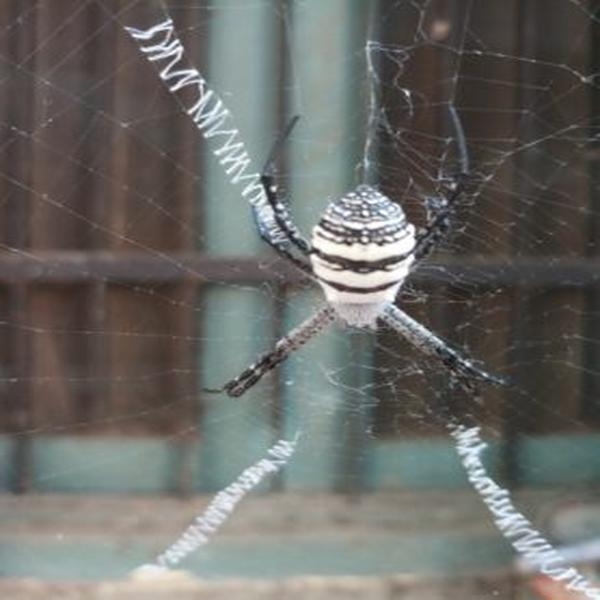St Andrew's Cross Spider: (214, 112, 501, 405)
